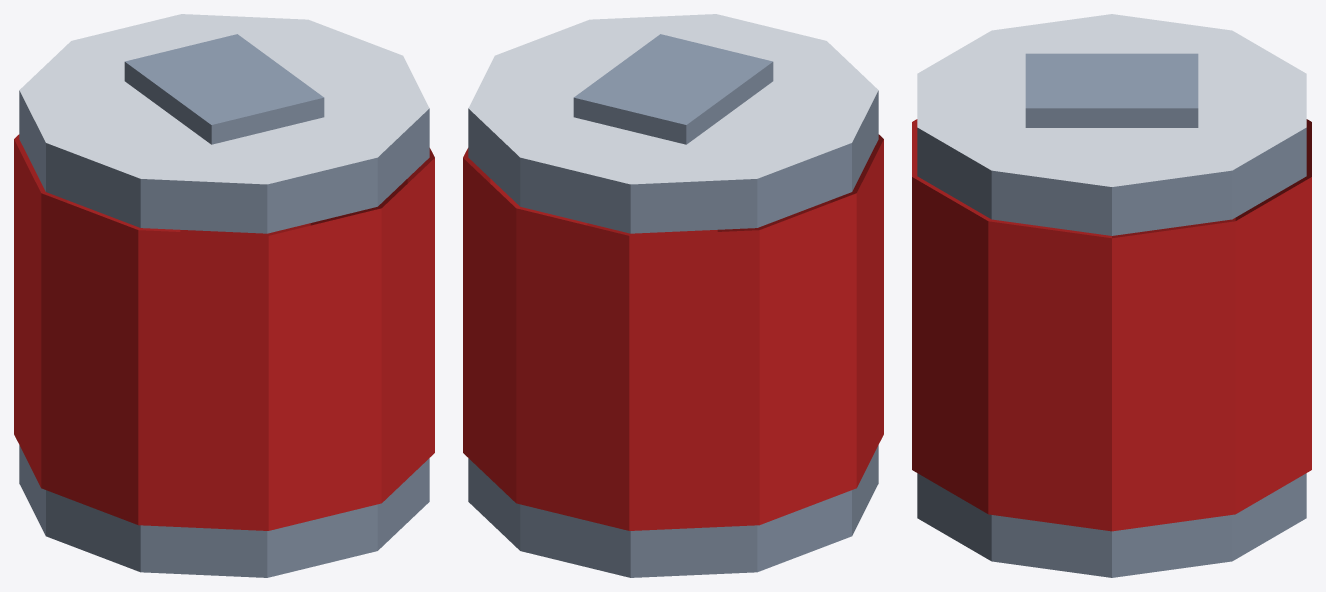
Rendered from soup.fbx.
3 renders of one model, left to right at view 1: azimuth 30°, elevation 25°; view 2: azimuth 150°, elevation 25°; view 3: azimuth 270°, elevation 25°, orthographic.
Parts seen in each view (by area): view 1: Soup; view 2: Soup; view 3: Soup.
Boxes of the visible parts, x1,y1,x2,y2 form: Soup: (14,14,434,577); Soup: (463,14,883,577); Soup: (912,14,1311,577).
Size of the model in its own units: 78 by 84 by 74.18.
